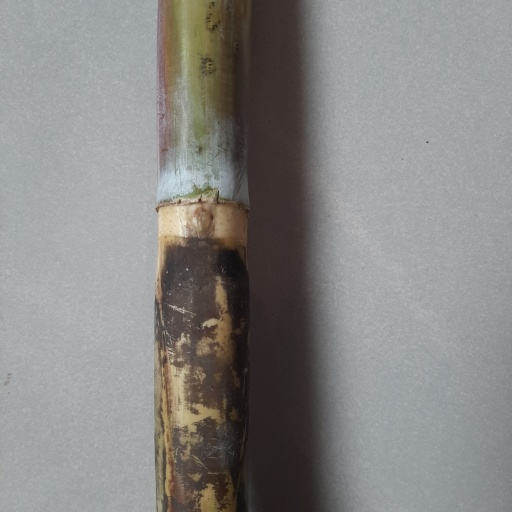Bud: (189, 207, 212, 239)
